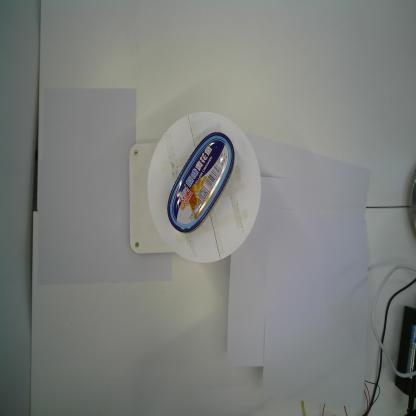Canned Food: (167, 131, 235, 234)
